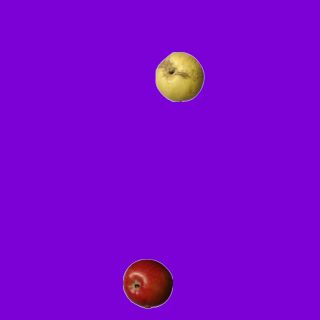Apple Braeburn: (122, 258, 172, 308)
Apple Golden 1: (154, 51, 204, 101)
